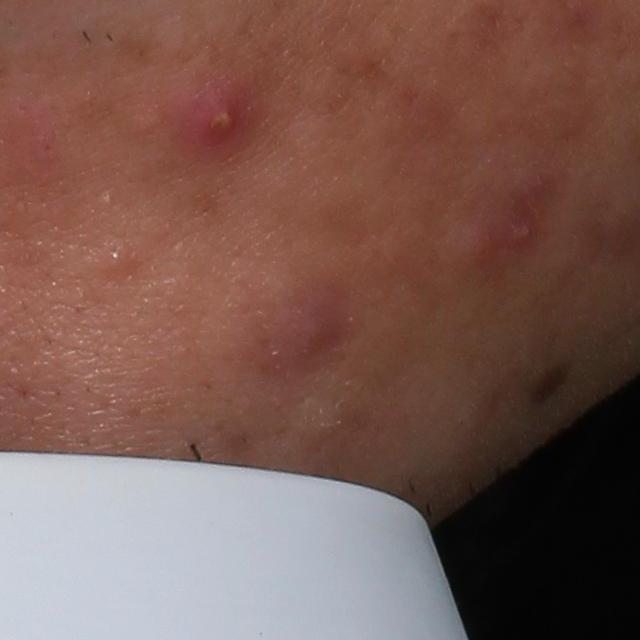comedo: (105, 247, 132, 274)
nevus: (531, 359, 574, 405)
papule: (448, 220, 508, 273)
pustule: (183, 83, 258, 159)
